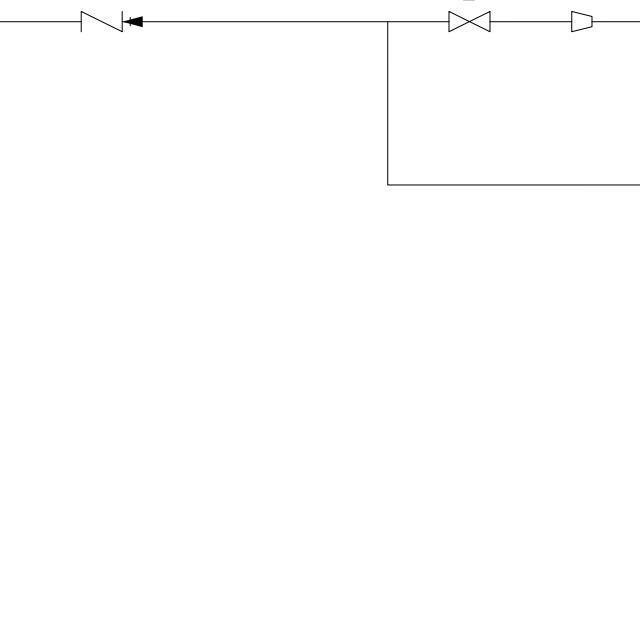GV: (445, 5, 495, 36)
SP: (567, 9, 596, 34)
